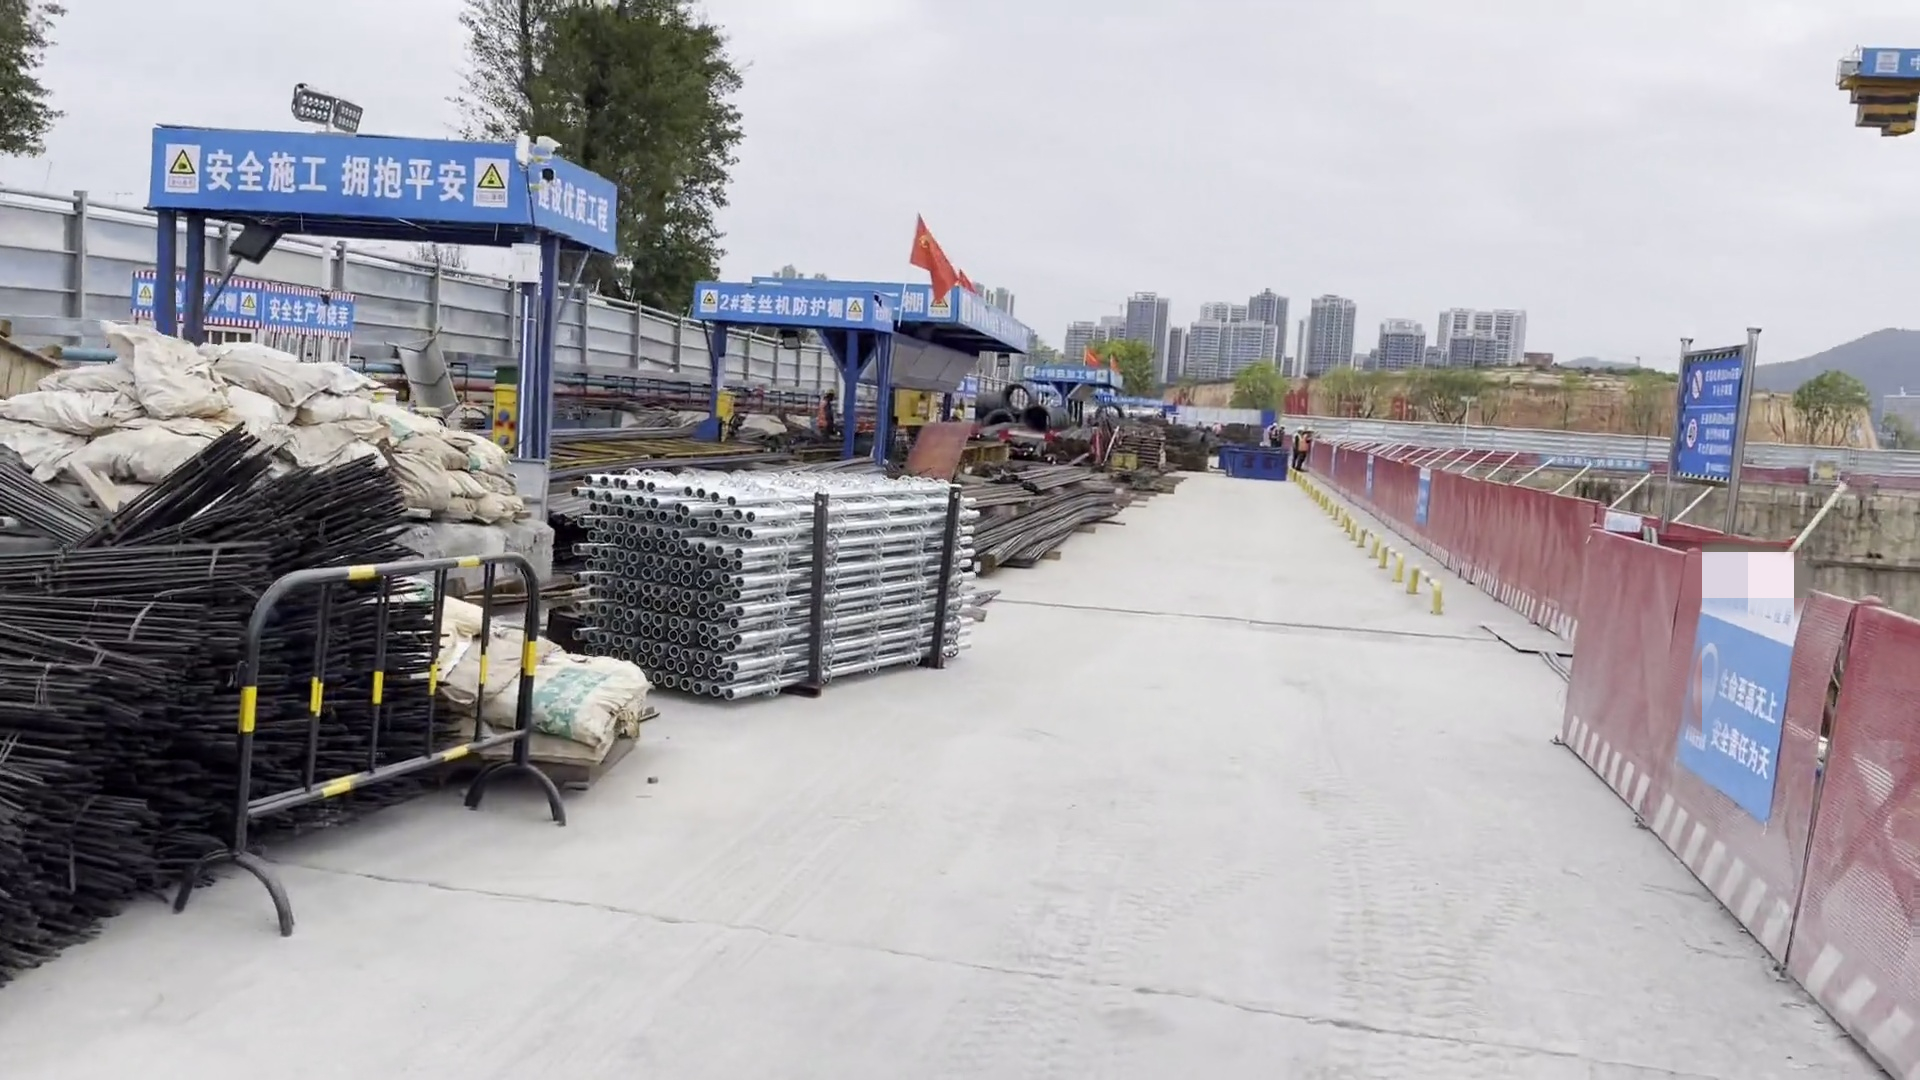ebox: (491, 385, 529, 460)
fence: (1530, 509, 1920, 1075), (1303, 431, 1778, 723)
helmet: (1305, 427, 1313, 433), (1298, 427, 1304, 433), (1274, 423, 1278, 428), (1281, 426, 1284, 430)
hopper: (1217, 432, 1285, 482)
person: (1300, 428, 1317, 471), (1290, 426, 1304, 464), (1273, 425, 1284, 444), (1267, 421, 1278, 441)
rebar: (926, 467, 1151, 589)
scaffold: (555, 443, 978, 679)
slogan: (203, 135, 459, 215), (1701, 666, 1781, 775)
vest: (1300, 435, 1310, 451), (1293, 434, 1300, 450), (1273, 430, 1279, 439), (1269, 425, 1273, 433)
